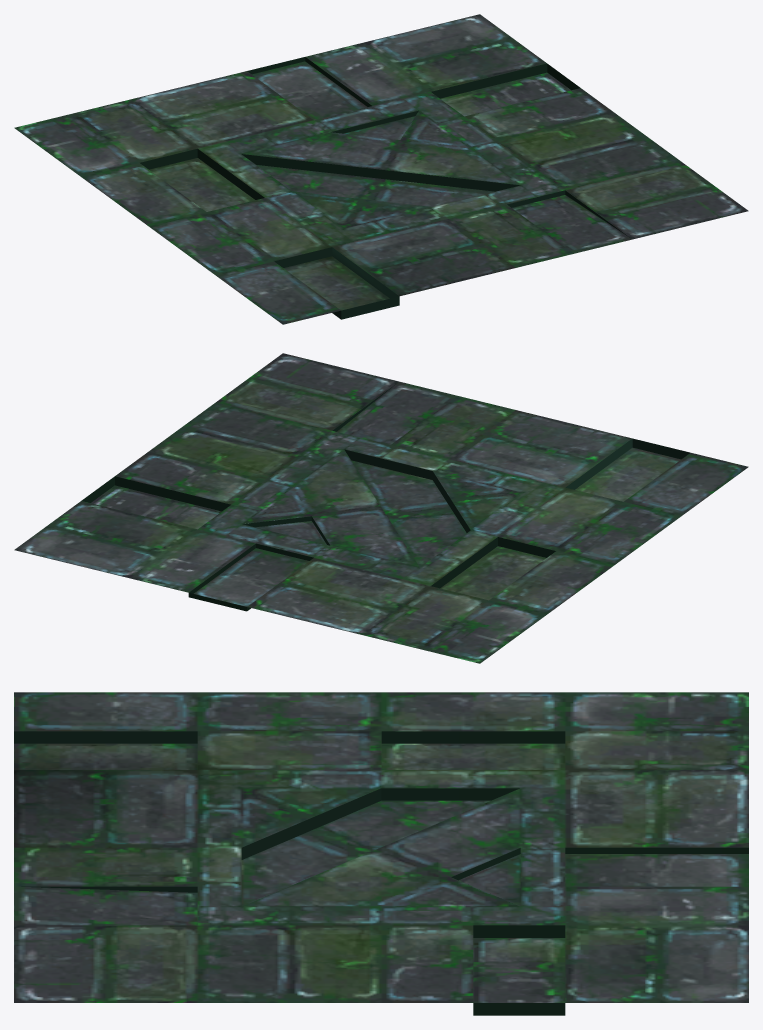
Rendered from stemple_floor_blank_01_b.fbx.
3 renders of one model, top to bottom at view 1: azimuth 30°, elevation 25°; view 2: azimuth 150°, elevation 25°; view 3: azimuth 270°, elevation 25°, orthographic. The views are drawn at different scales.
Parts seen in each view (by area): view 1: stemple_floor_blank_01_b-0; view 2: stemple_floor_blank_01_b-0; view 3: stemple_floor_blank_01_b-0.
Part boxes in pixels (x1=…): stemple_floor_blank_01_b-0: x1=14, y1=14, x2=748, y2=324; stemple_floor_blank_01_b-0: x1=14, y1=353, x2=748, y2=663; stemple_floor_blank_01_b-0: x1=14, y1=692, x2=748, y2=1015.
Size of the model in its own units: 4 by 0.075 by 4.
